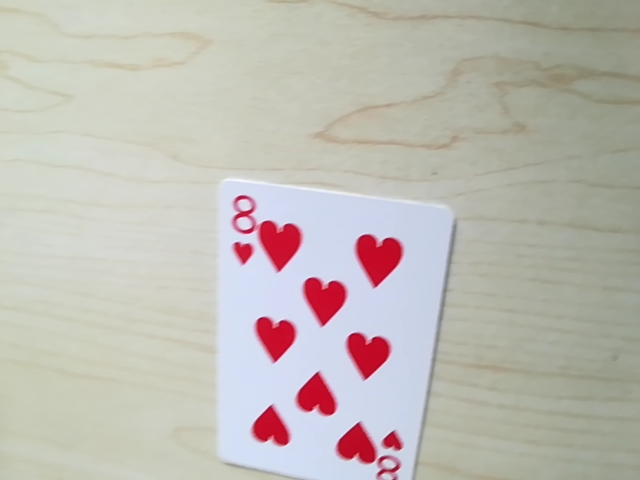hx 8: (227, 187, 268, 239), (356, 438, 406, 478)
